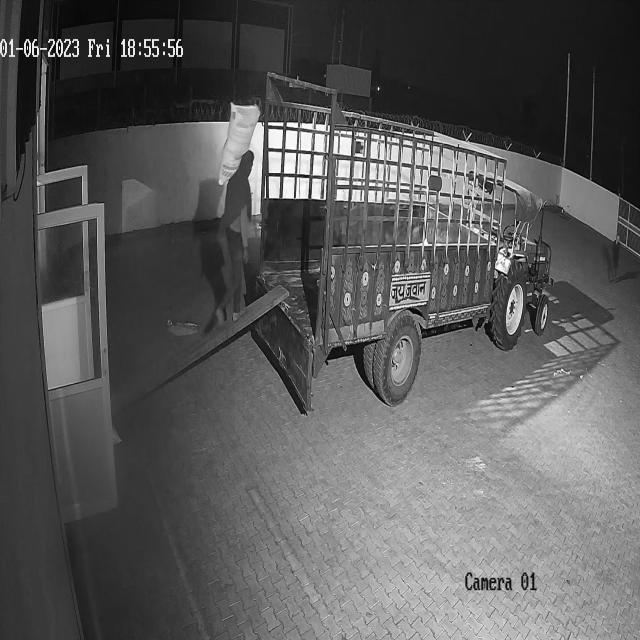sack: (218, 102, 260, 188)
